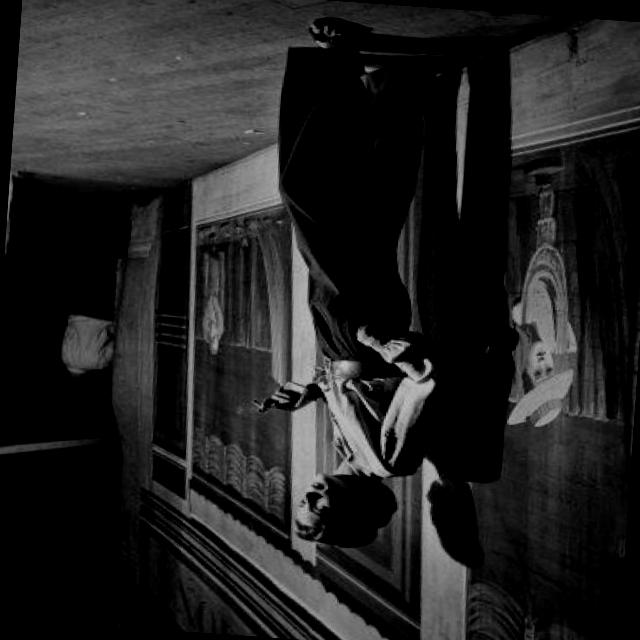cigarette: (250, 398, 263, 409)
